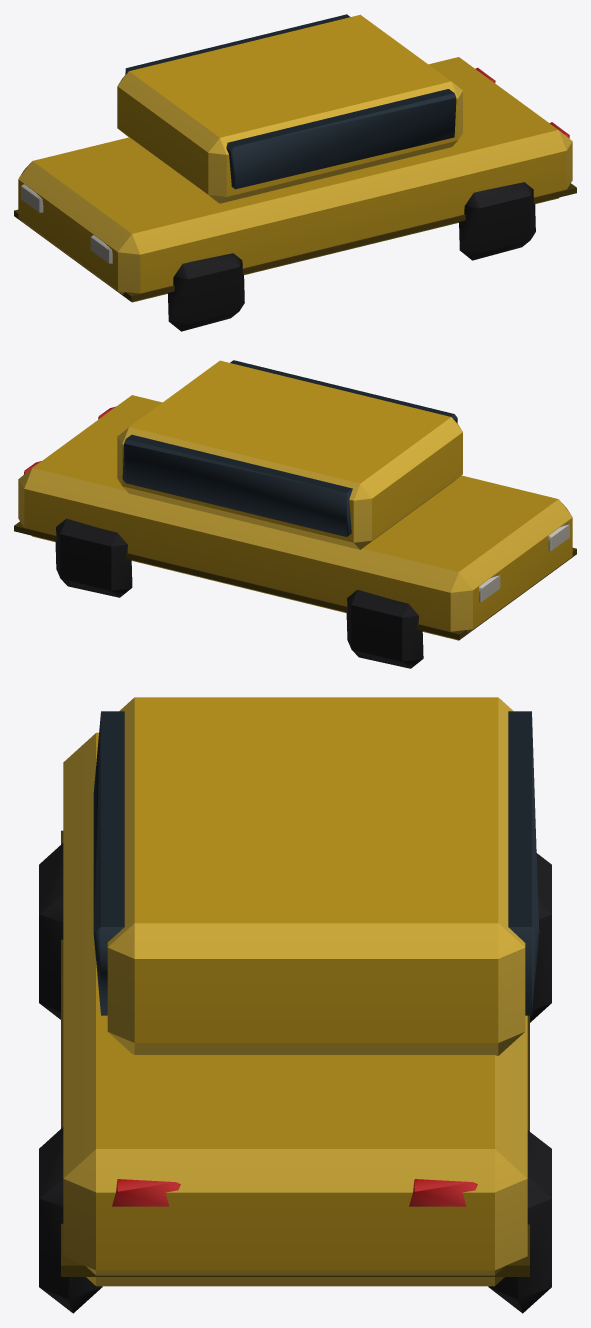
The model's file is car-sedan-v1.lod1.glb.
3 renders of one model, top to bottom at view 1: azimuth 30°, elevation 25°; view 2: azimuth 150°, elevation 25°; view 3: azimuth 270°, elevation 25°, orthographic. The views are drawn at different scales.
Parts seen in each view (by area): view 1: car-sedan-v1.lod1; view 2: car-sedan-v1.lod1; view 3: car-sedan-v1.lod1.
Part boxes in pixels (x1,y1,x2,y2): car-sedan-v1.lod1: [14, 14, 576, 331]; car-sedan-v1.lod1: [14, 360, 576, 668]; car-sedan-v1.lod1: [39, 697, 551, 1313].
Size of the model in its own units: 4.35 by 1.52 by 2.1.
